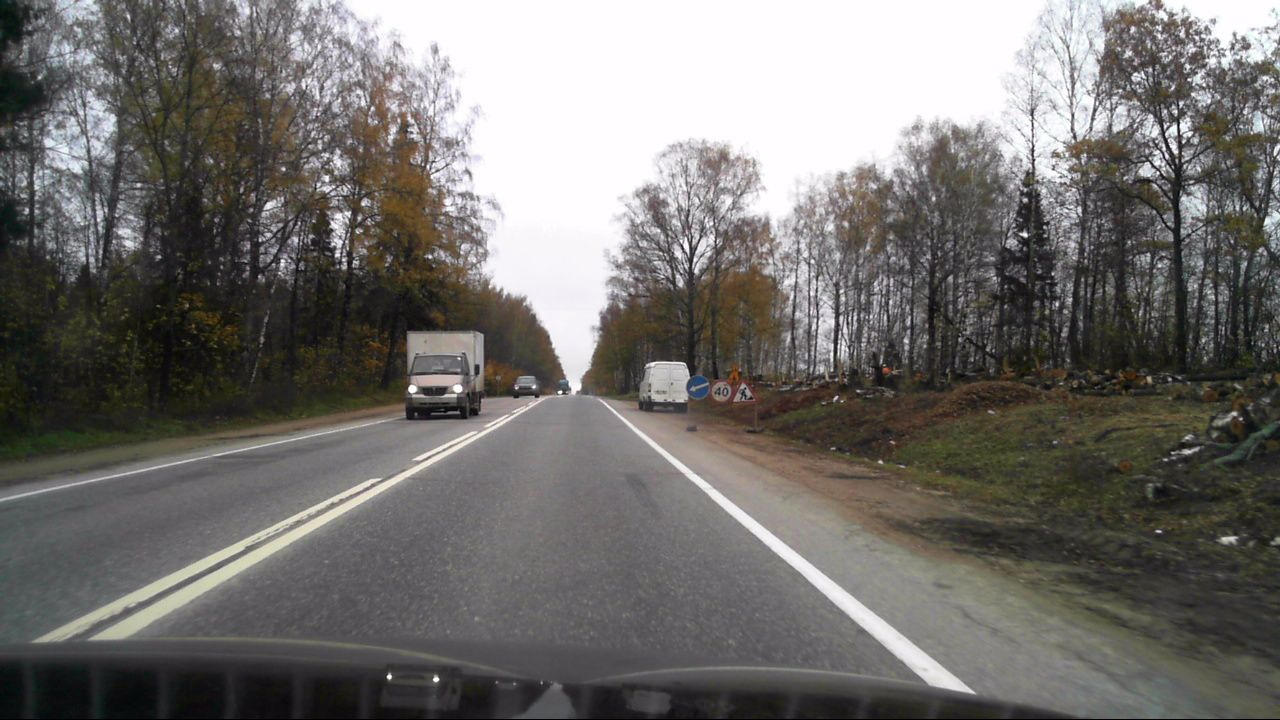speed_warning_40: (710, 380, 731, 401)
